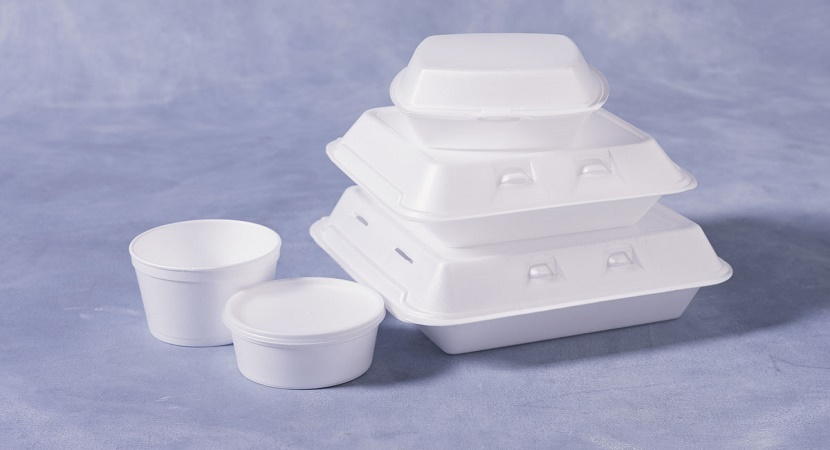Nonrec_Plastic: (307, 10, 762, 347), (112, 201, 287, 351), (224, 275, 389, 394)
